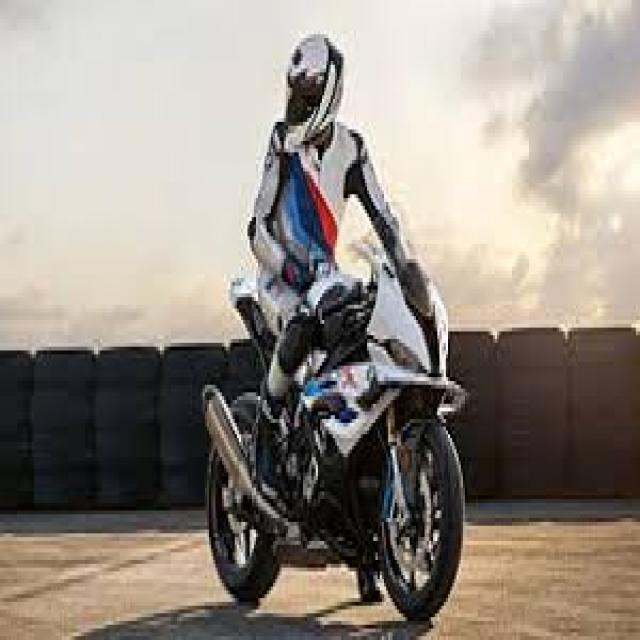Bike: (202, 206, 467, 623)
